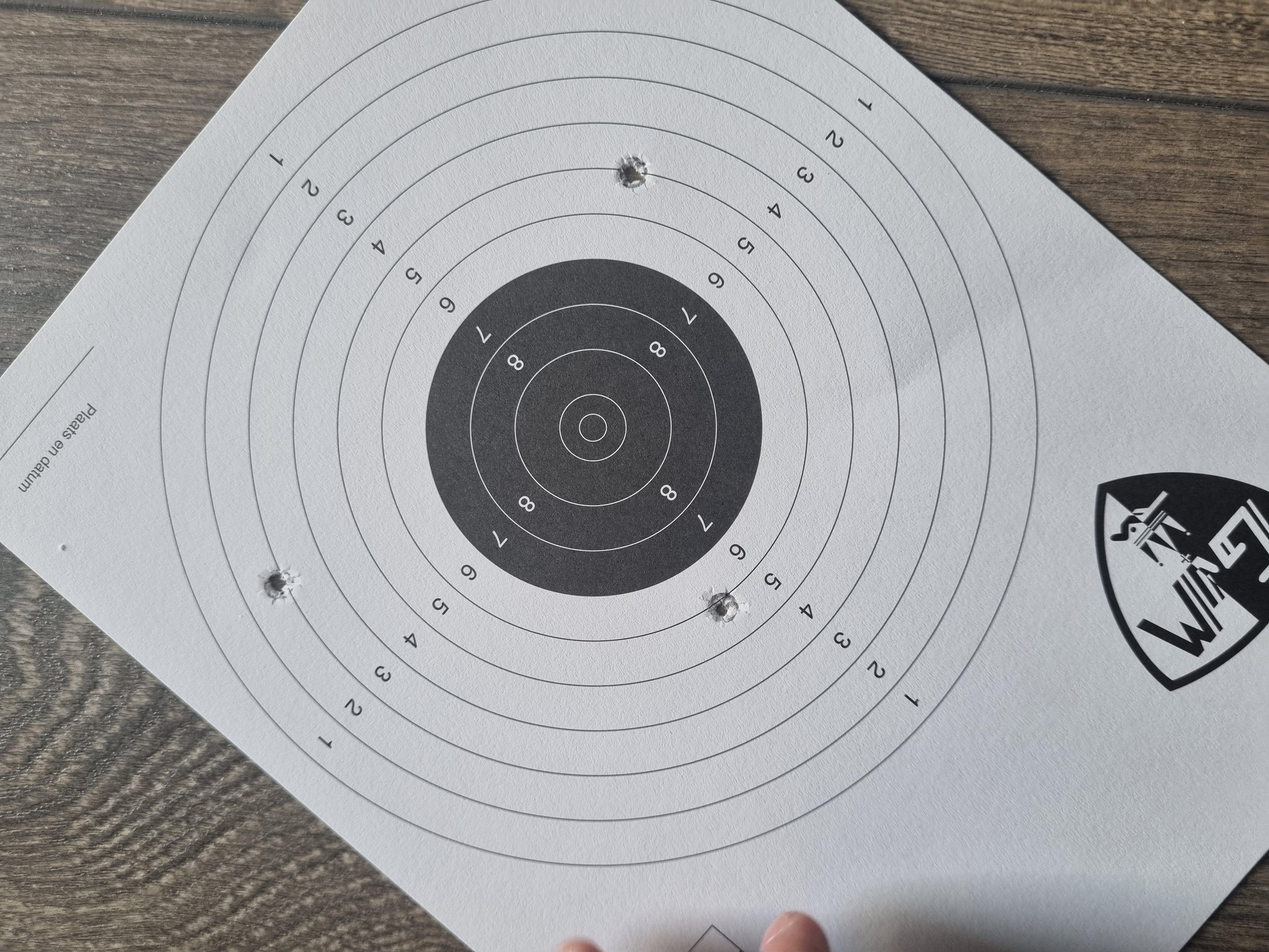hole: (435, 525, 486, 554), (463, 196, 510, 225), (1017, 462, 1061, 486)
